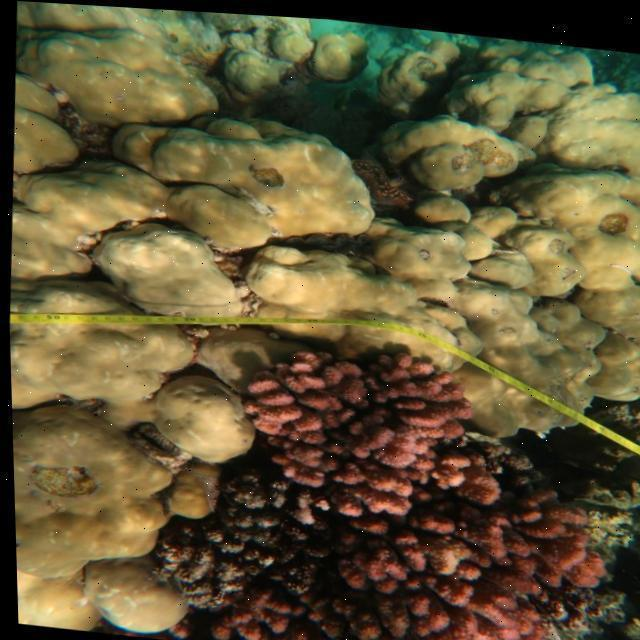Healthy Coral: (0, 0, 280, 640), (330, 434, 610, 640), (233, 330, 482, 501), (177, 583, 333, 640)
